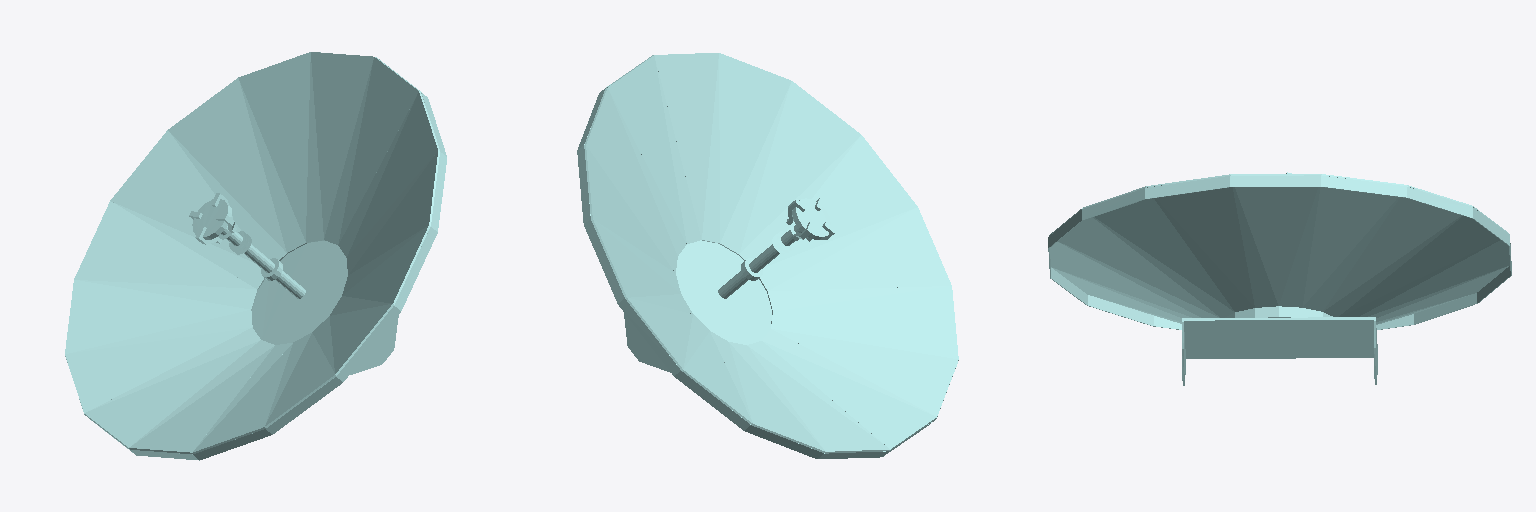
Rendered from disk.obj.
3 renders of one model, left to right at view 1: azimuth 30°, elevation 25°; view 2: azimuth 150°, elevation 25°; view 3: azimuth 270°, elevation 25°, orthographic.
Parts seen in each view (by area): view 1: p1, p180_1; view 2: p1, p180_1; view 3: p180_1, p1.
Part boxes in pixels (x1,y1,x2,y2): p1: (65, 52, 446, 460); p180_1: (65, 57, 439, 453); p1: (577, 53, 958, 458); p180_1: (584, 55, 958, 453); p180_1: (1049, 172, 1510, 385); p1: (1048, 175, 1511, 358).
Size of the model in its own units: 0.7191 by 0.6956 by 0.9736.